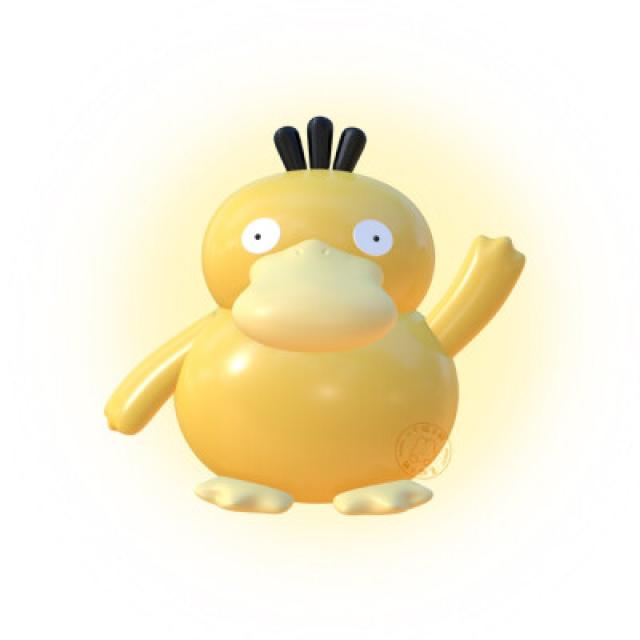Duck: (124, 96, 524, 524)
